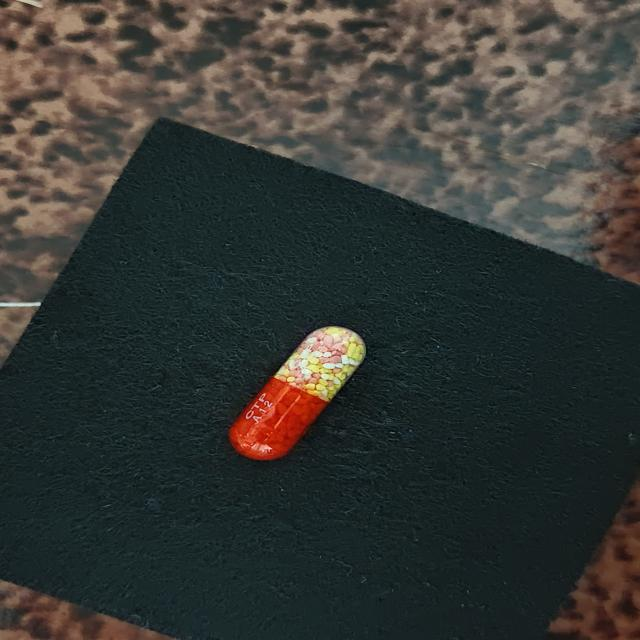Intact Capsule: (229, 326, 366, 460)
